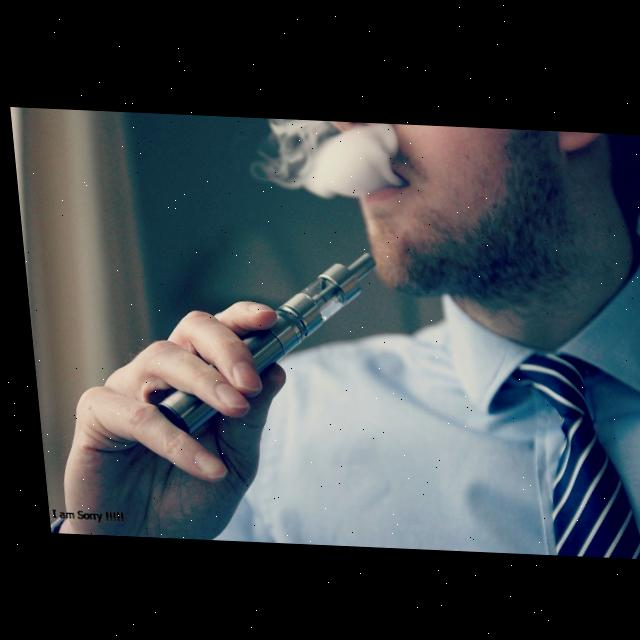vape: (139, 239, 386, 443)
